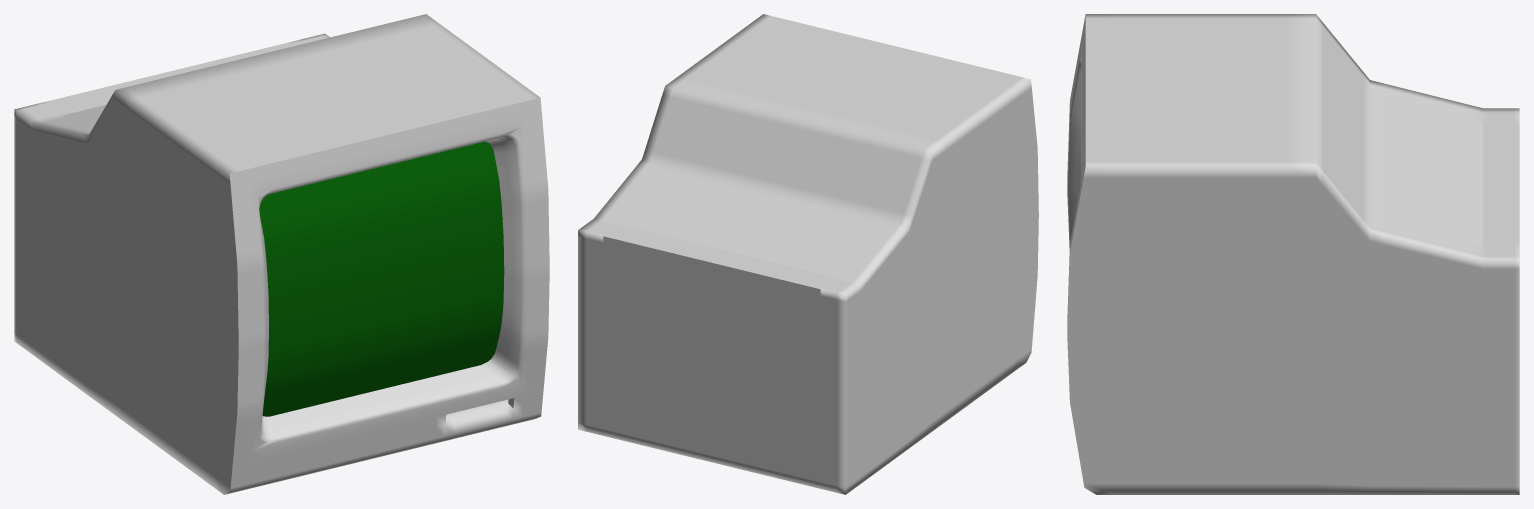
Rendered from monitor.fbx.
3 views of the same model, side by side, from view 1: azimuth 30°, elevation 25°; view 2: azimuth 150°, elevation 25°; view 3: azimuth 270°, elevation 25° (orthographic). The views are drawn at different scales.
Visible parts, largest first — view 1: Pc, Screen; view 2: Pc; view 3: Pc.
Boxes of the visible parts, bbox=[...] form: Pc: bbox=[14, 14, 549, 494]; Screen: bbox=[259, 141, 504, 416]; Pc: bbox=[578, 14, 1038, 494]; Pc: bbox=[1067, 14, 1519, 494].
Bounding box in the file's own units: 200 × 200 × 250.
